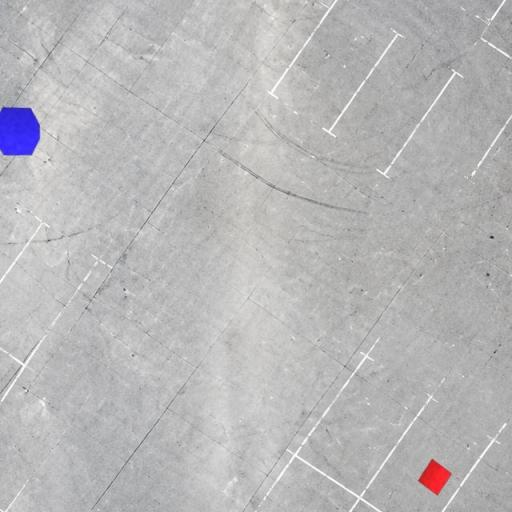RED_SQUARE: (418, 458, 452, 496)
